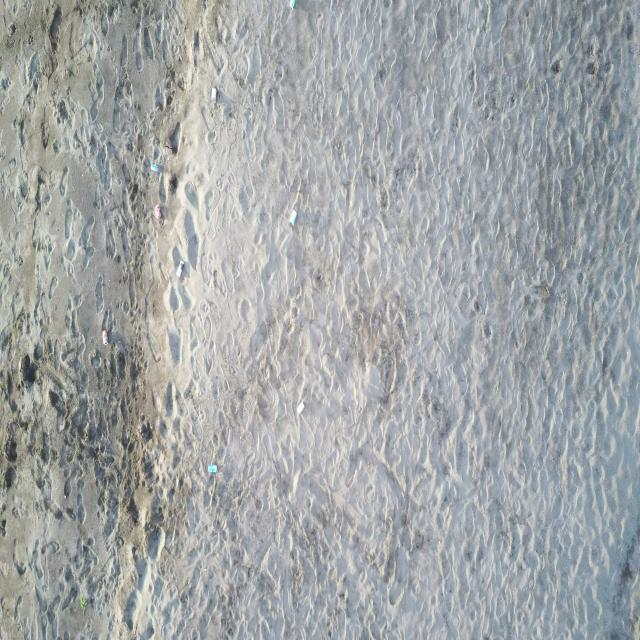tin-and-aluminum-cans: (176, 259, 184, 277), (290, 208, 298, 226), (207, 462, 218, 475), (296, 400, 305, 415), (154, 204, 162, 220), (150, 162, 160, 174), (102, 329, 109, 346), (211, 87, 217, 104), (289, 0, 296, 9)
